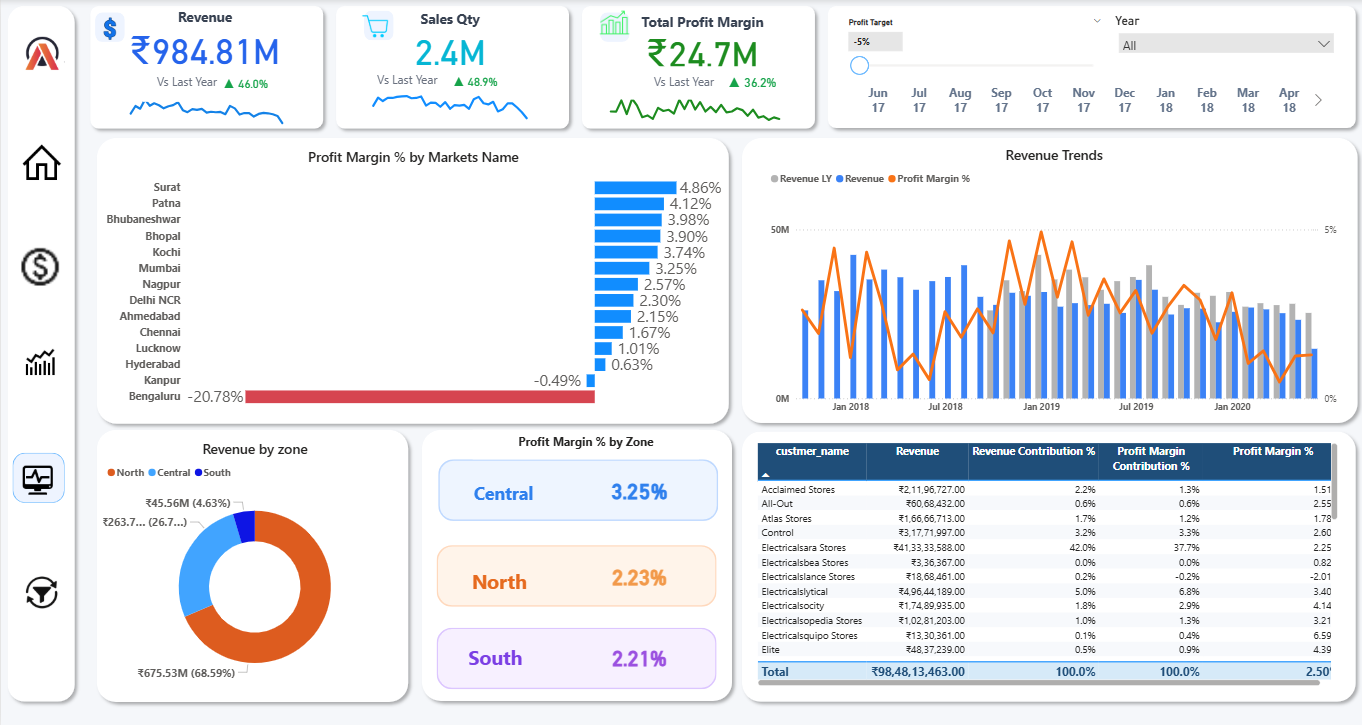

What the dashboard file says about the page in this screenshot:
{"tool":"powerbi","page":{"name":"Performance insights","canvas":[1864,999],"ordinal":3},"visuals":[{"type":"shape","box":[0,0,110,970.6],"z":0},{"type":"shape","box":[112.4,0,337.1,186.4],"z":1000},{"type":"shape","box":[1003.8,181.3,860.7,408.7],"z":2000},{"type":"shape","box":[1003.8,582.3,858.2,388.2],"z":3000},{"type":"shape","box":[122.2,180.7,883.2,409.8],"z":4000},{"type":"shape","box":[122.6,579.8,444.4,390.8],"z":5000},{"type":"barChart","title":"Profit Margin % by Markets Name","fields":{"Y":["Base Measures.Profit Margin %"],"Category":["sales markets.markets_name","sales customers.custmer_name","sales products.product_code"]},"box":[137.4,203.6,852.6,364],"z":6000},{"type":"donutChart","fields":{"Category":["sales markets.zone"],"Y":["Base Measures.Revenue"]},"box":[140,603.2,414.9,348.7],"z":7000},{"type":"lineClusteredColumnComboChart","title":"Revenue Trends","fields":{"Category":["sales date.cy_date"],"Y":["Base Measures.Revenue LY","Base Measures.Revenue"],"Y2":["Base Measures.Profit Margin %"]},"box":[1047.2,201.8,786.7,375.4],"z":8000},{"type":"tableEx","fields":{"Values":["sales customers.custmer_name","Base Measures.Revenue","Base Measures.Revenue Contribution %","Base Measures.Profit Margin Contribution %","Base Measures.Profit Margin %"]},"box":[1029.3,602.8,804.5,342.2],"z":9000},{"type":"image","box":[15.3,17.9,76.6,112.4],"z":10000},{"type":"image","box":[17.8,318.2,71.3,96.7],"z":11000},{"type":"image","box":[20.4,468.3,66.2,58.5],"z":12000},{"type":"shape","box":[786.7,0,337.1,186.4],"z":13000},{"type":"shape","box":[449.5,0,337.1,186.4],"z":14000},{"type":"shape","box":[567.6,580.3,442.9,389.4],"z":15000},{"type":"card","title":"Revenue","fields":{"Values":["Base Measures.Revenue"]},"box":[147.6,10.2,264.7,86.5],"z":16000},{"type":"lineChart","fields":{"Y":["Base Measures.Revenue"],"Category":["sales date.cy_date"]},"box":[149,121.9,239.3,65.5],"z":17000},{"type":"card","title":"Sales Qty","fields":{"Values":["Base Measures.Sales Qty"]},"box":[495.5,12.8,240.1,84.3],"z":18000},{"type":"lineChart","fields":{"Y":["Base Measures.Sales Qty"],"Category":["sales date.cy_date"]},"box":[495.5,114.9,240.1,61.3],"z":19000},{"type":"card","title":"Total Profit Margin","fields":{"Values":["Base Measures.Total Profit Margin"]},"box":[840.3,17.9,240.1,79.2],"z":20000},{"type":"lineChart","fields":{"Category":["sales date.cy_date"],"Y":["Base Measures.Total Profit Margin"]},"box":[819.9,112.4,260.5,61.3],"z":21000},{"type":"shape","box":[1122.4,0,740.7,185.8],"z":22000},{"type":"slicer","fields":{"Values":["sales date.cy_date"]},"box":[1146.8,94.5,666.6,86.8],"z":23000},{"type":"slicer","fields":{"Values":["Profit Target 2.Profit Target"]},"box":[1146.8,20.4,370.3,86.8],"z":24000},{"type":"slicer","title":"Year","fields":{"Values":["sales date.year"]},"box":[1519.7,20.4,314.2,53.6],"z":25000},{"type":"shape","box":[127.7,17.9,40.9,40.9],"z":26000},{"type":"image","box":[127.7,20.4,40.9,40.9],"z":27000},{"type":"textbox","box":[194.1,97.1,120,43.4],"z":28000},{"type":"card","fields":{"Values":["Base Measures.Revenue Growth Display"]},"box":[283.5,94.5,99.6,46],"z":29000},{"type":"shape","box":[496.3,15.3,40.7,40.7],"z":30000},{"type":"image","box":[487.8,12.8,48.5,48.5],"z":31000},{"type":"textbox","box":[495.5,94.5,122.6,35.8],"z":32000},{"type":"shape","box":[819.6,17.8,40.7,40.7],"z":33000},{"type":"textbox","box":[860.7,97.1,148.1,40.9],"z":34000},{"type":"card","fields":{"Values":["Base Measures.Sales Growth Display"]},"box":[595.1,91.9,104.7,43.4],"z":35000},{"type":"card","fields":{"Values":["Base Measures.Profit Margin Display"]},"box":[978.2,97.1,99.6,35.8],"z":36000},{"type":"image","box":[812.2,7.7,53.6,51.1],"z":37000},{"type":"image","box":[20.4,185.8,71.3,78.9],"z":38000},{"type":"shape","box":[15.3,621,71.3,68.7],"z":39000},{"type":"image","box":[25.5,631.2,50.9,50.9],"z":40000},{"type":"shape","box":[597.7,630.9,383.1,84.3],"z":41000},{"type":"textbox","box":[618.1,653.8,137.9,61.3],"z":42000},{"type":"shape","box":[595.1,748.3,383.1,84.3],"z":43000},{"type":"shape","box":[595.1,860.7,383.1,84.3],"z":44000},{"type":"card","fields":{"Values":["Base Measures.Profit Margin %"]},"box":[796.9,630.9,153.2,84.3],"z":45000},{"type":"card","fields":{"Values":["Base Measures.Profit Margin %"]},"box":[796.9,748.3,153.2,84.3],"z":46000},{"type":"card","fields":{"Values":["Base Measures.Profit Margin %"]},"box":[796.9,858.2,153.2,86.8],"z":47000},{"type":"textbox","box":[567,773.9,229.9,58.7],"z":48000},{"type":"textbox","box":[615.5,878.6,120,66.4],"z":49000},{"type":"textbox","box":[646.2,590,309,40.9],"z":50000},{"type":"image","box":[15.3,773.7,81.4,78.9],"z":51000}]}

Visuals, with their boxes on the page's 1864x999 design canvas (x1, y1, x2, y2). These are canvas units, not pixel positions in the 1362x725 screenshot, which may show the page scaled, cropped or inside an application window:
shape: 0 0 110 971
shape: 112 0 450 186
shape: 1004 181 1864 590
shape: 1004 582 1862 970
shape: 122 181 1005 590
shape: 123 580 567 971
"Profit Margin % by Markets Name" barChart: 137 204 990 568
donutChart - sales markets.zone x Base Measures.Revenue: 140 603 555 952
"Revenue Trends" lineClusteredColumnComboChart: 1047 202 1834 577
tableEx - sales customers.custmer_name x Base Measures.Revenue: 1029 603 1834 945
image: 15 18 92 130
image: 18 318 89 415
image: 20 468 87 527
shape: 787 0 1124 186
shape: 450 0 787 186
shape: 568 580 1010 970
"Revenue" card: 148 10 412 97
lineChart - Base Measures.Revenue x sales date.cy_date: 149 122 388 187
"Sales Qty" card: 496 13 736 97
lineChart - Base Measures.Sales Qty x sales date.cy_date: 496 115 736 176
"Total Profit Margin" card: 840 18 1080 97
lineChart - sales date.cy_date x Base Measures.Total Profit Margin: 820 112 1080 174
shape: 1122 0 1863 186
slicer - sales date.cy_date: 1147 94 1813 181
slicer - Profit Target 2.Profit Target: 1147 20 1517 107
"Year" slicer: 1520 20 1834 74
shape: 128 18 169 59
image: 128 20 169 61
textbox: 194 97 314 140
card - Base Measures.Revenue Growth Display: 284 94 383 140
shape: 496 15 537 56
image: 488 13 536 61
textbox: 496 94 618 130
shape: 820 18 860 58
textbox: 861 97 1009 138
card - Base Measures.Sales Growth Display: 595 92 700 135
card - Base Measures.Profit Margin Display: 978 97 1078 133
image: 812 8 866 59
image: 20 186 92 265
shape: 15 621 87 690
image: 26 631 76 682
shape: 598 631 981 715
textbox: 618 654 756 715
shape: 595 748 978 833
shape: 595 861 978 945
card - Base Measures.Profit Margin %: 797 631 950 715
card - Base Measures.Profit Margin %: 797 748 950 833
card - Base Measures.Profit Margin %: 797 858 950 945
textbox: 567 774 797 833
textbox: 616 879 736 945
textbox: 646 590 955 631
image: 15 774 97 853
